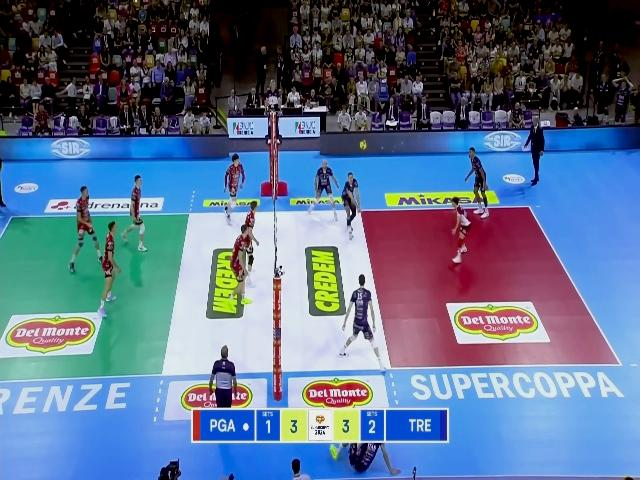volleyball court: (0, 204, 621, 380)
